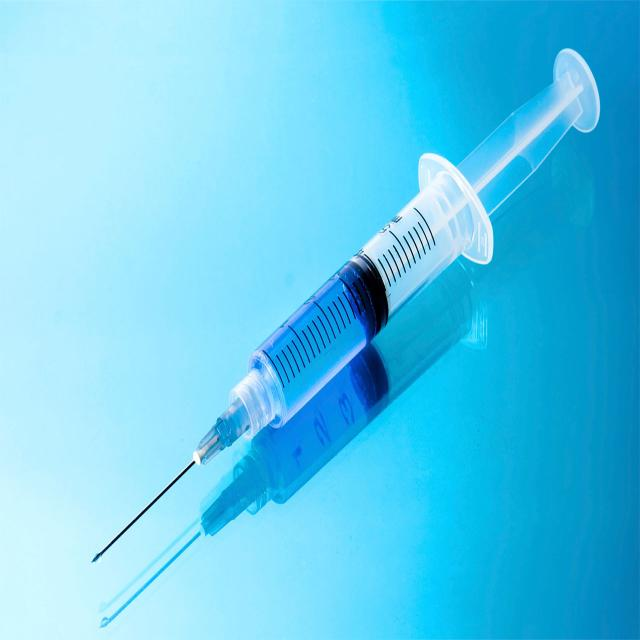B3: (71, 44, 609, 616)
